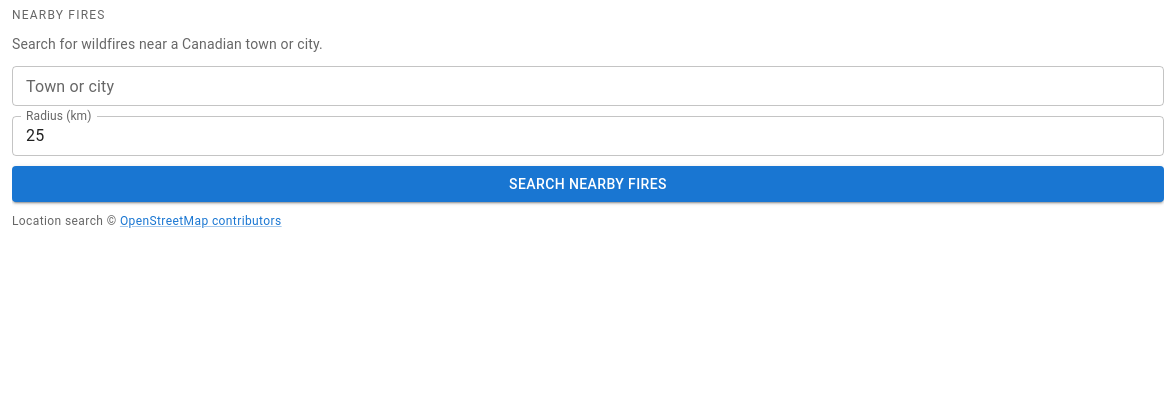
NearbyWildfireSearch › renders results after a successful search, using the resolved coordinates and entered radius
Type "Ottawa" into the field labelled "Town or city" at (588, 86), box left=12, top=66, right=1164, bottom=106
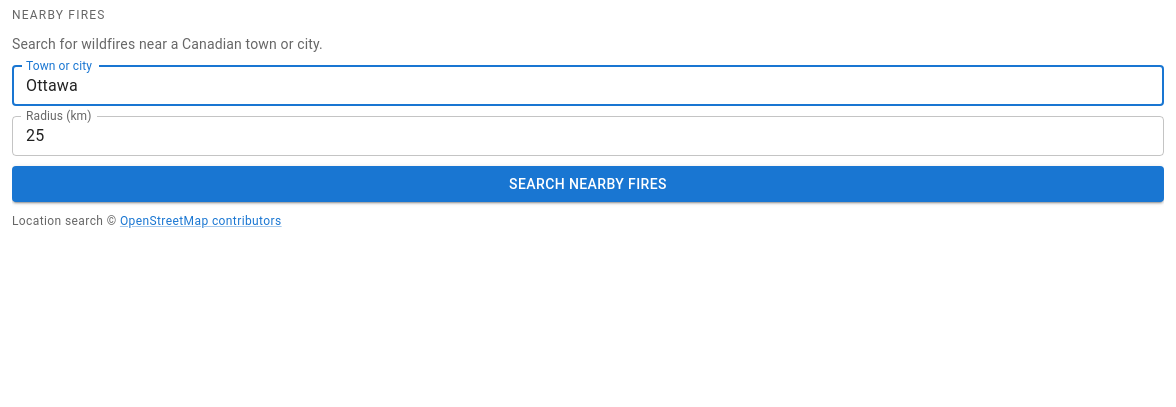
Click the button "Search nearby fires" at (588, 184), box left=12, top=166, right=1164, bottom=202
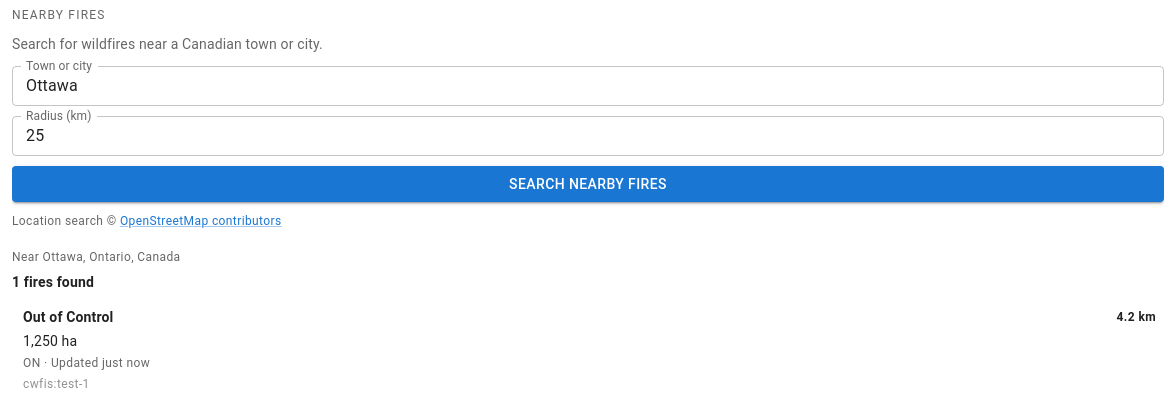
Expected: the text "Near Ottawa, Ontario, Canada" is shown, left=12, top=250, right=180, bottom=264
Expected: the text "Out of Control" is shown, left=23, top=310, right=113, bottom=327
Expected: the text "4.2 km" is shown, left=1116, top=308, right=1156, bottom=328
